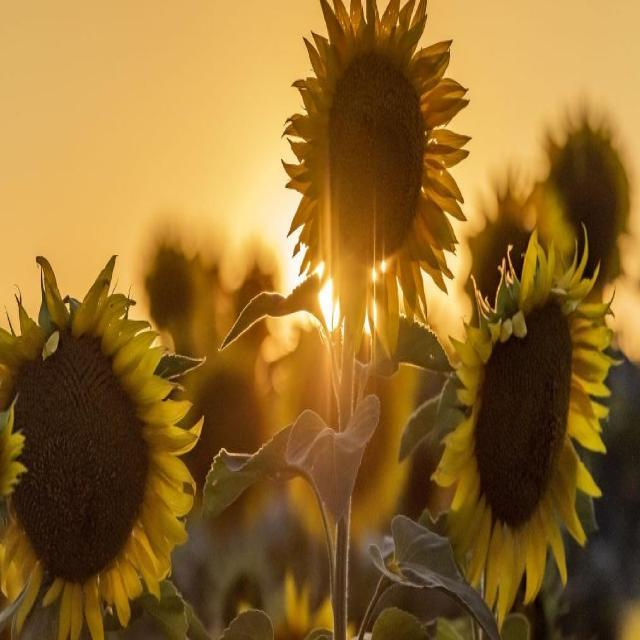sunflower: (429, 219, 623, 632), (0, 253, 204, 638), (280, 0, 472, 361), (278, 312, 414, 542), (522, 99, 639, 319), (178, 347, 280, 527), (451, 172, 552, 334), (239, 569, 354, 640), (140, 229, 203, 346), (228, 245, 282, 358)
